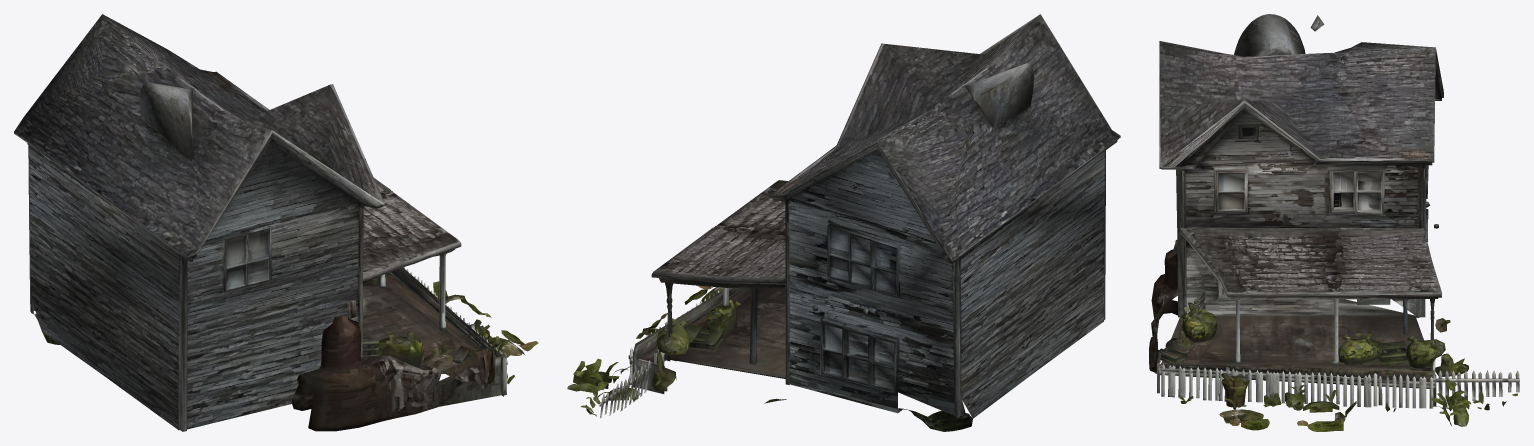
File: site-plague-quarter.glb
3 renders of one model, left to right at view 1: azimuth 30°, elevation 25°; view 2: azimuth 150°, elevation 25°; view 3: azimuth 270°, elevation 25°, orthographic. The views are drawn at different scales.
Visible parts, largest first — view 1: site-plague-quarter; view 2: site-plague-quarter; view 3: site-plague-quarter.
Part boxes in pixels (x1,y1,x2,y2): site-plague-quarter: [14, 14, 538, 431]; site-plague-quarter: [567, 14, 1120, 431]; site-plague-quarter: [1149, 14, 1519, 431].
Bounding box in the file's own units: 0.9995 × 0.8198 × 0.9995.
Materials: 1 (1 with a texture image).
